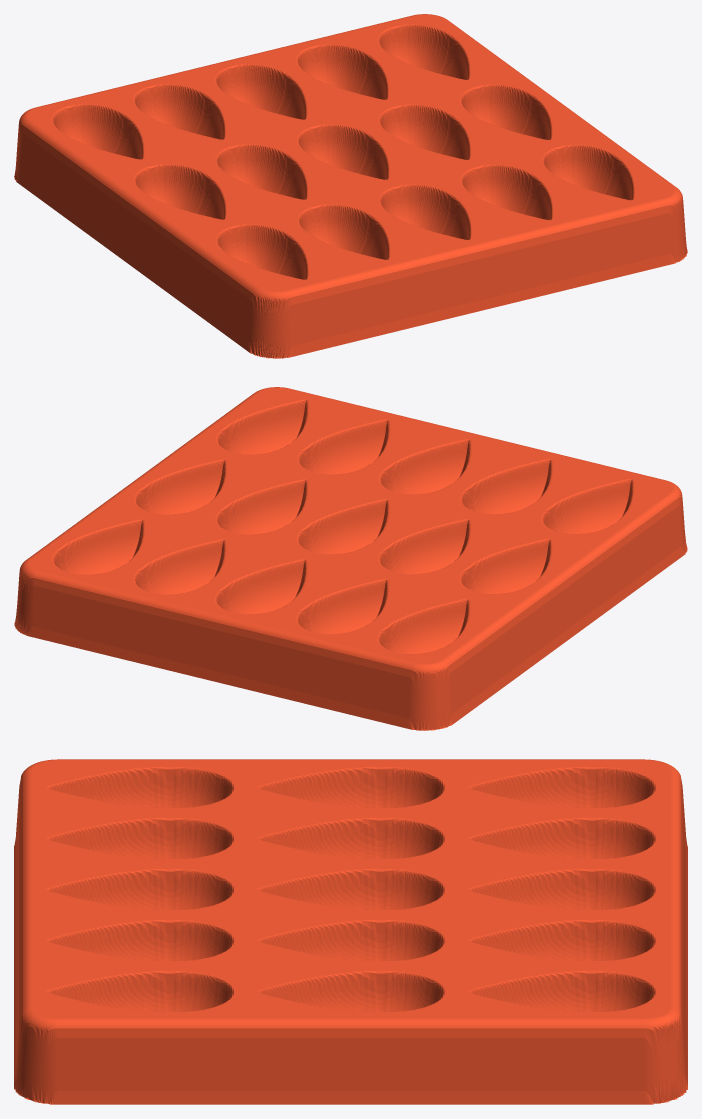
File: mold.glb
The picture shows the model from 3 angles, top to bottom: view 1: azimuth 30°, elevation 25°; view 2: azimuth 150°, elevation 25°; view 3: azimuth 270°, elevation 25°; orthographic projection. The views are drawn at different scales.
Visible parts, largest first — view 1: geometry_0; view 2: geometry_0; view 3: geometry_0.
Part boxes in pixels (x1,y1,x2,y2): geometry_0: (14,14,687,358); geometry_0: (14,387,687,730); geometry_0: (14,759,687,1104).
Bounding box in the file's own units: 0.1354 × 0.0182 × 0.1415.
